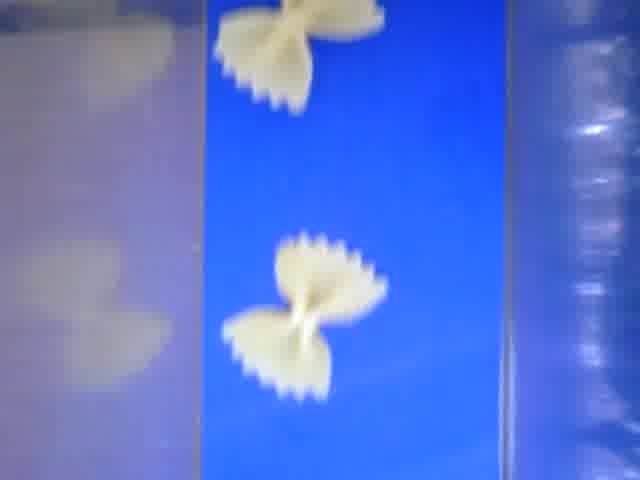farfalle: (221, 232, 387, 402), (214, 1, 386, 111)
